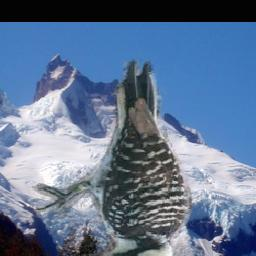Woodpecker: (30, 59, 198, 256)
